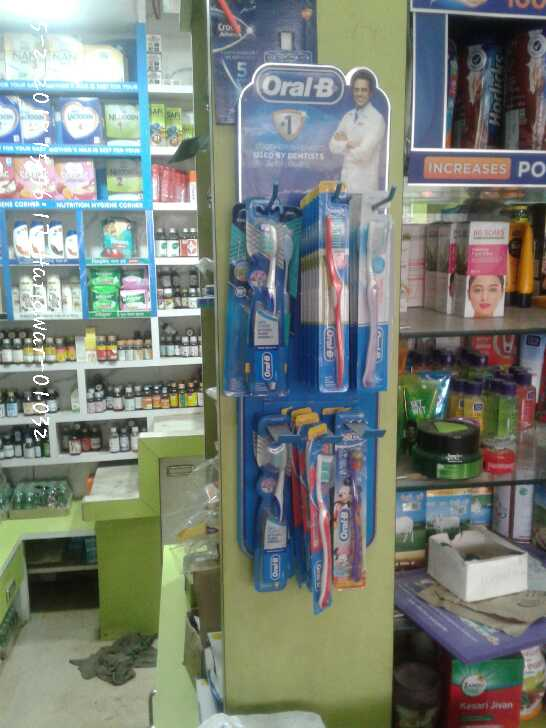oralb: (243, 206, 289, 396), (351, 212, 398, 389), (249, 432, 294, 601), (309, 212, 349, 398), (299, 445, 331, 618), (338, 439, 377, 580)
